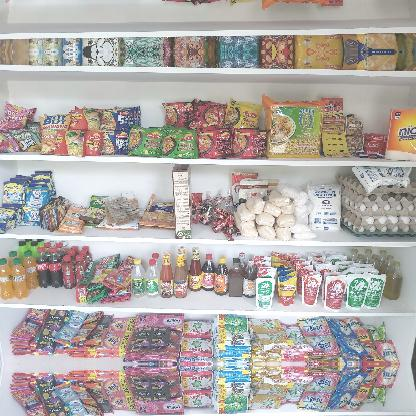Koko-Krunch: (171, 162, 193, 240)
